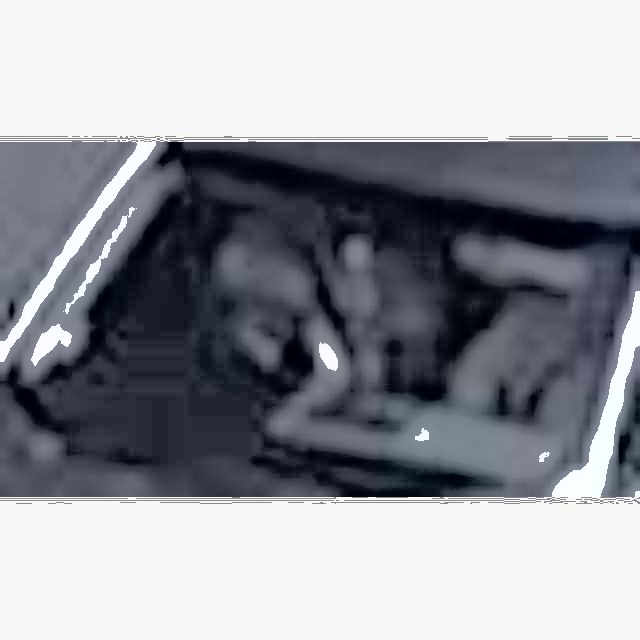pakai: (190, 189, 403, 403), (458, 229, 616, 434)
